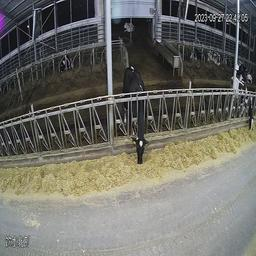cow: (122, 67, 154, 176), (228, 70, 254, 144), (53, 52, 73, 80), (191, 42, 207, 67), (208, 46, 222, 72), (121, 21, 138, 38)
